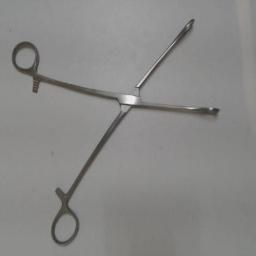Sponge Forceps: (7, 11, 225, 249)
